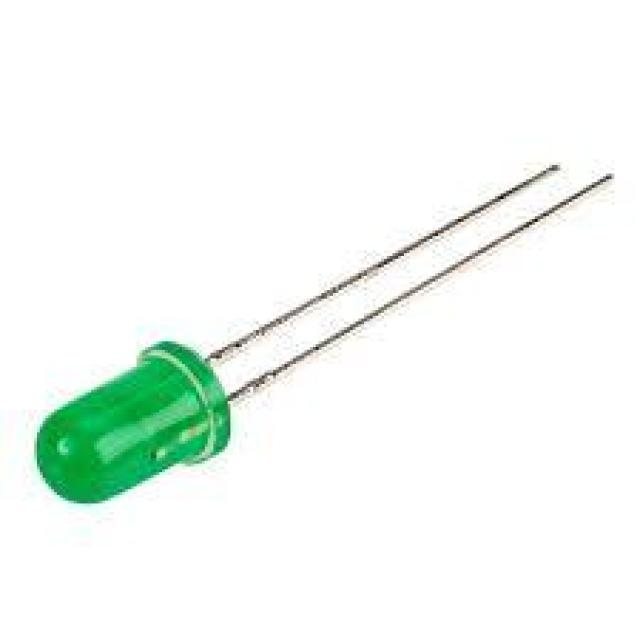Led: (36, 342, 226, 502)
